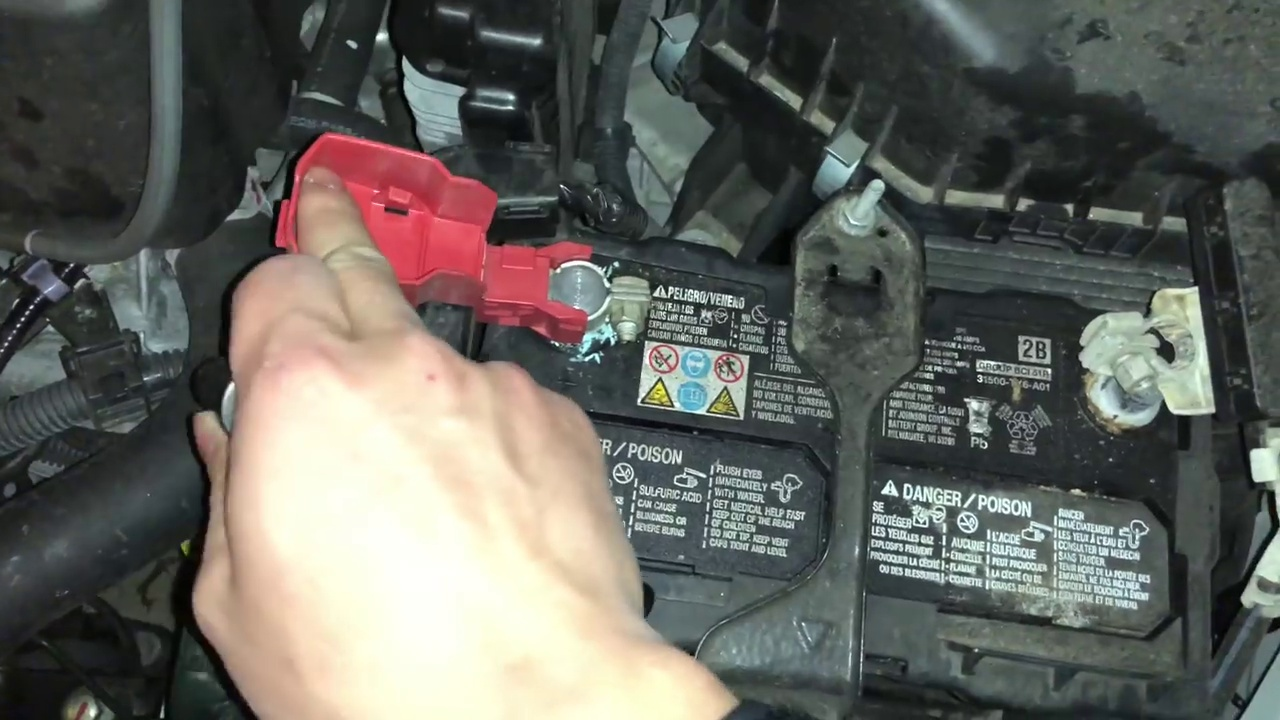battery: (414, 149, 1228, 689), (268, 118, 673, 377)
neg_connected: (1050, 258, 1228, 448)
